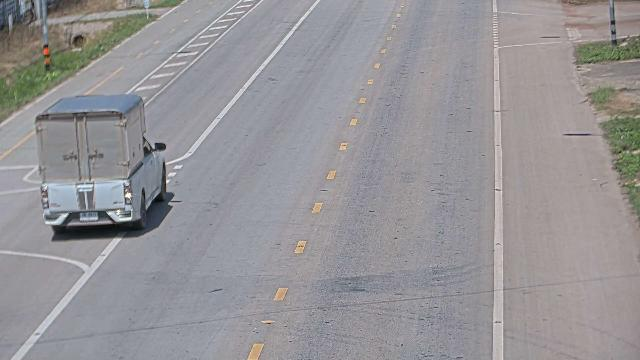pickup-truck: (33, 92, 168, 234)
